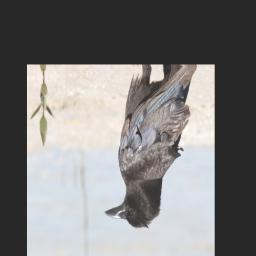Crow: (98, 65, 203, 233)
